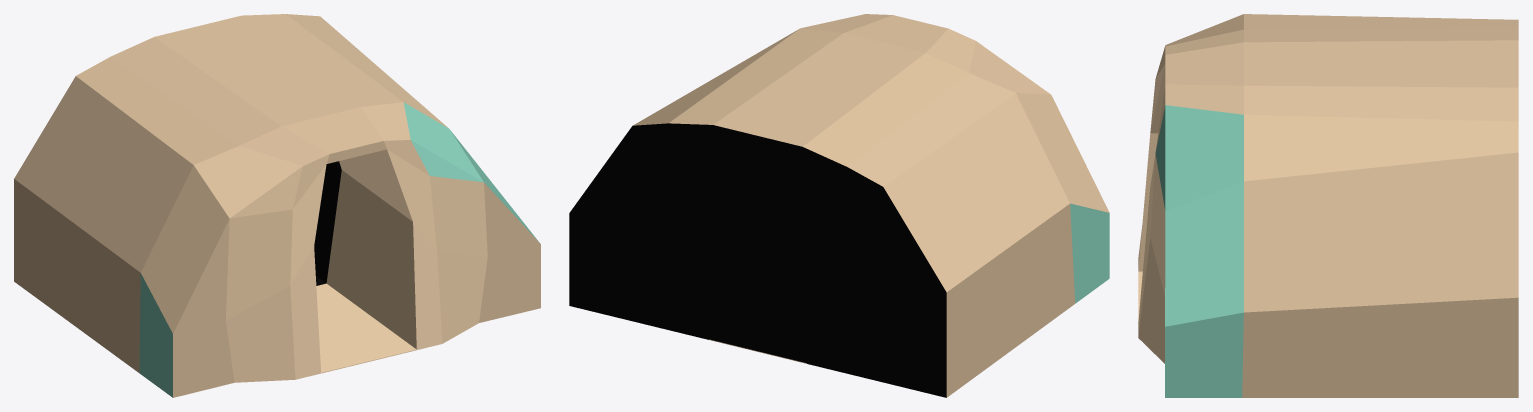
File: Spawn_Wolf.fbx
3 renders of one model, left to right at view 1: azimuth 30°, elevation 25°; view 2: azimuth 150°, elevation 25°; view 3: azimuth 270°, elevation 25°, orthographic. The views are drawn at different scales.
Visible parts, largest first — view 1: Spawn_Wolf; view 2: Spawn_Wolf; view 3: Spawn_Wolf.
Boxes of the visible parts, box(x1,y1,x2,y2) form: Spawn_Wolf: box(14, 14, 540, 397); Spawn_Wolf: box(569, 14, 1109, 397); Spawn_Wolf: box(1138, 14, 1518, 397).
Bounding box in the file's own units: 0.6018 × 0.3291 × 0.4845.
